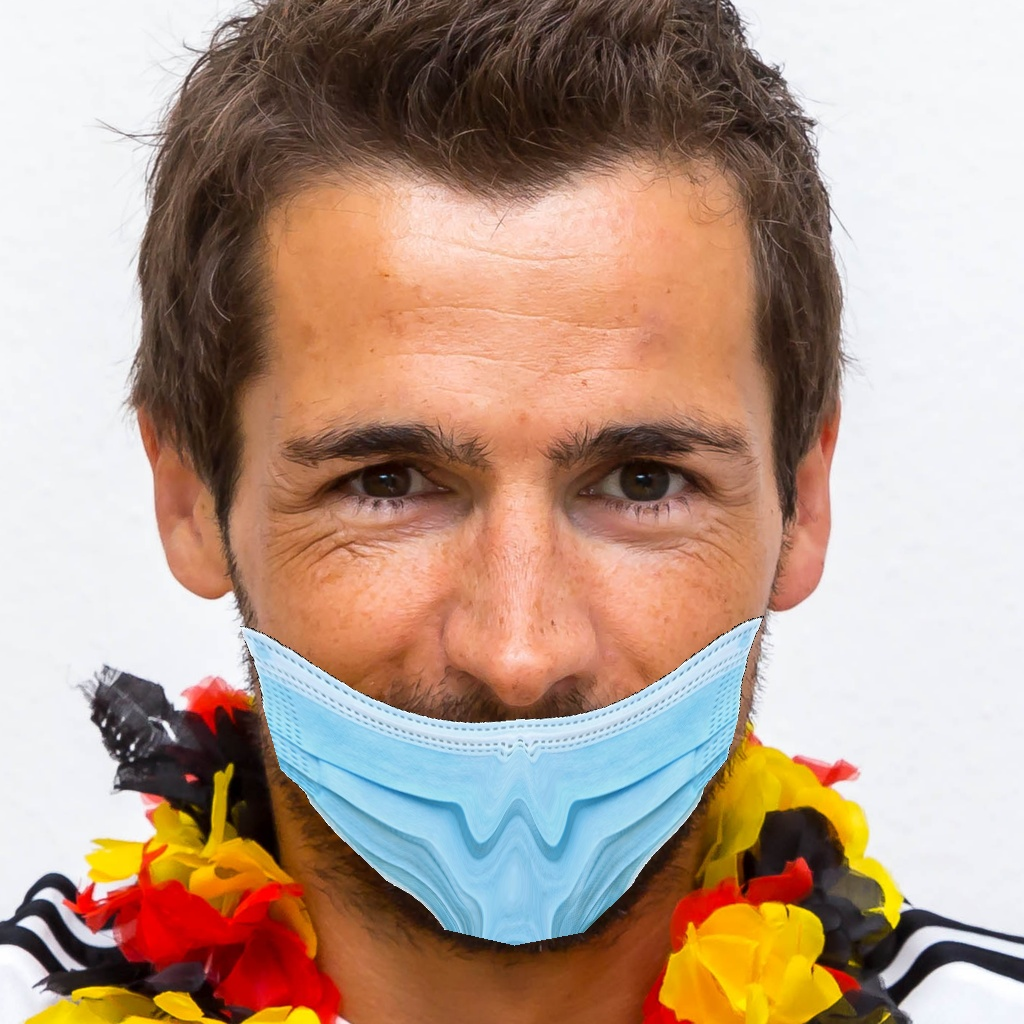Mask_Mouth_Chin: (229, 375, 784, 946)
